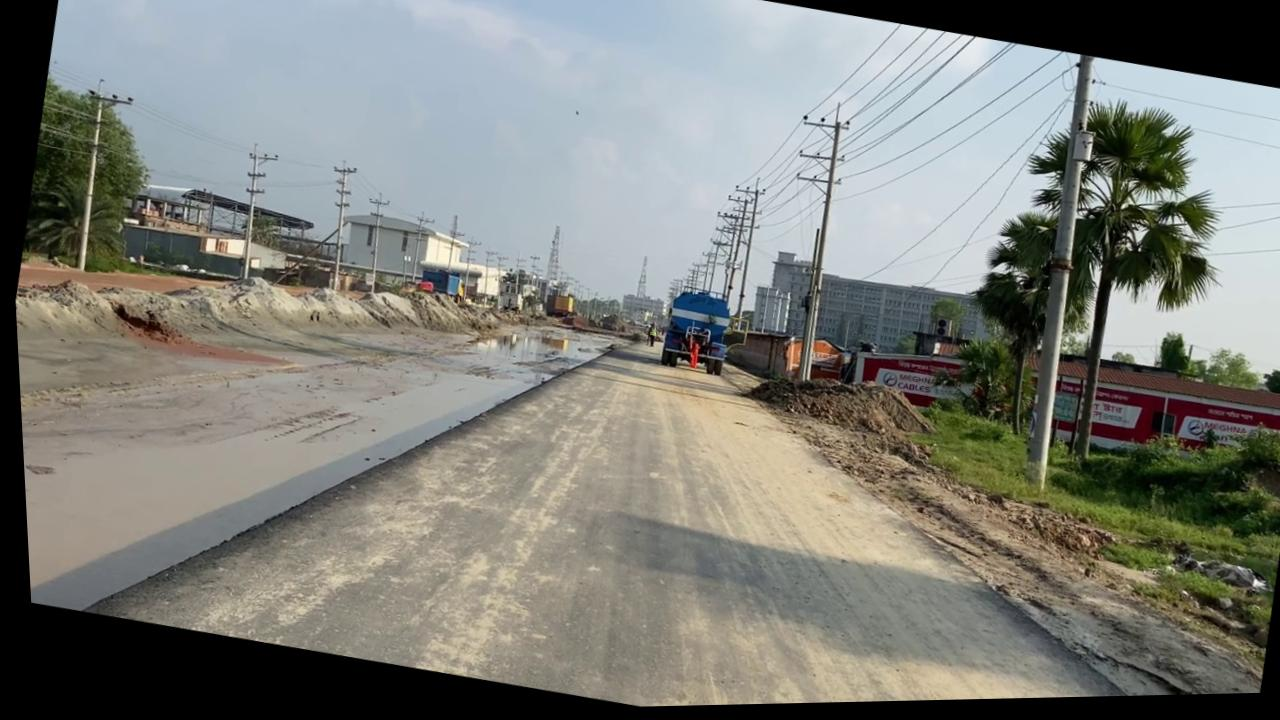Garbage: (734, 358, 939, 452), (1156, 541, 1269, 606)
Pole: (992, 58, 1122, 496), (778, 107, 859, 386)
Sidewalk: (9, 219, 641, 706)
Traffic-sign: (965, 83, 1258, 488), (933, 200, 1113, 453)
Tree: (654, 286, 737, 380), (410, 266, 465, 308), (540, 293, 573, 322)
